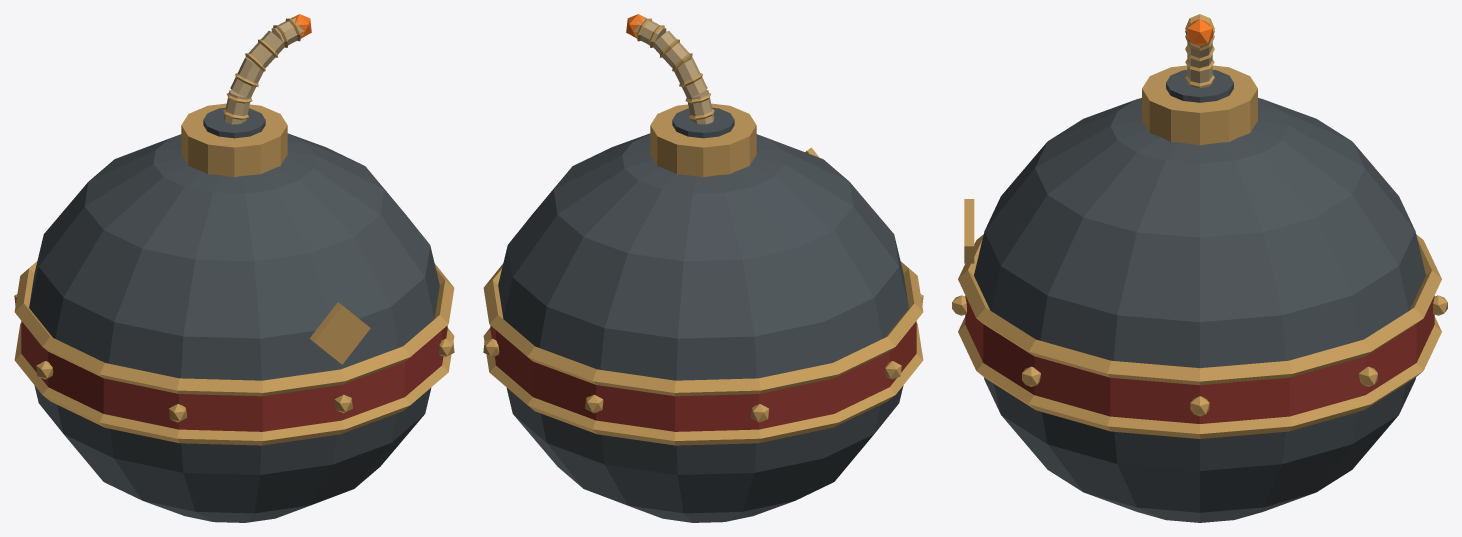
The model's file is ChiefBomb.fbx.
The picture shows the model from 3 angles, left to right: view 1: azimuth 30°, elevation 25°; view 2: azimuth 150°, elevation 25°; view 3: azimuth 270°, elevation 25°; orthographic projection. The views are drawn at different scales.
Parts seen in each view (by area): view 1: ChiefBomb_Mesh; view 2: ChiefBomb_Mesh; view 3: ChiefBomb_Mesh.
Boxes of the visible parts, bbox=[...] form: ChiefBomb_Mesh: bbox=[14, 17, 454, 522]; ChiefBomb_Mesh: bbox=[483, 17, 923, 522]; ChiefBomb_Mesh: bbox=[952, 14, 1447, 522].
Bounding box in the file's own units: 39.41 × 45.12 × 39.33.
